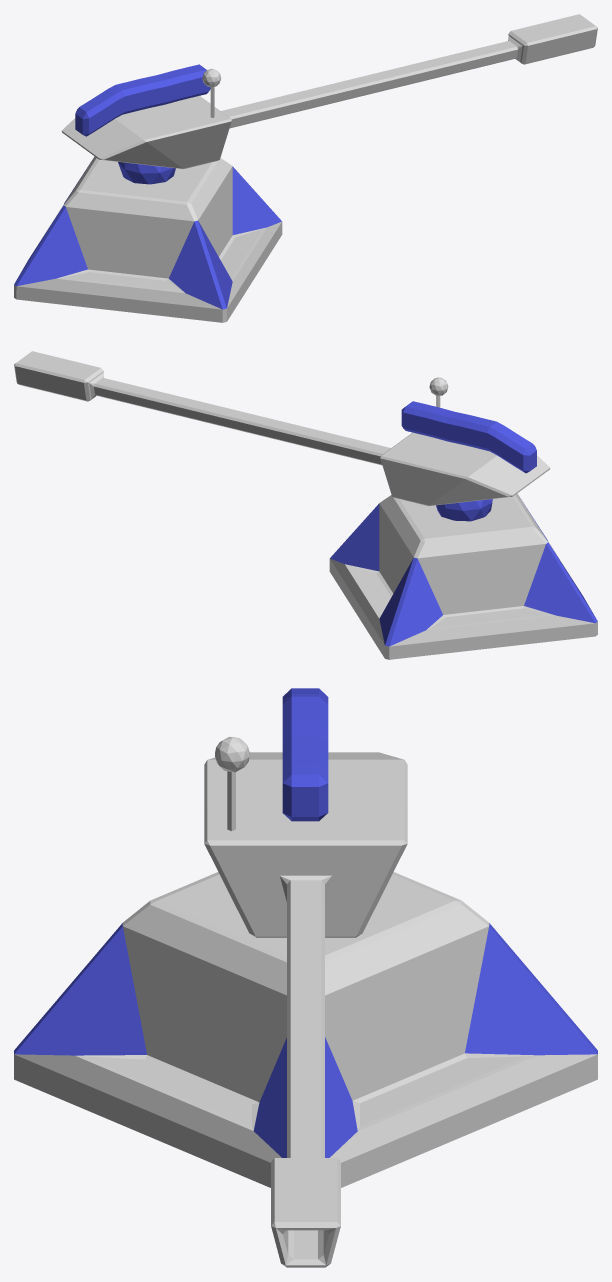
File: Mohawk.fbx
The picture shows the model from 3 angles, top to bottom: view 1: azimuth 30°, elevation 25°; view 2: azimuth 150°, elevation 25°; view 3: azimuth 270°, elevation 25°; orthographic projection. The views are drawn at different scales.
Visible parts, largest first — view 1: base, cañon, pelo, Esfera geodésica; view 2: base, cañon, pelo, Esfera geodésica; view 3: base, cañon, pelo, antena.
Part boxes in pixels (bbox=[...]): base: bbox=[14, 156, 282, 322]; cañon: bbox=[61, 14, 597, 169]; pelo: bbox=[75, 64, 210, 136]; Esfera geodésica: bbox=[118, 162, 175, 184]; base: bbox=[329, 493, 597, 659]; cañon: bbox=[14, 351, 550, 506]; pelo: bbox=[401, 401, 536, 473]; Esfera geodésica: bbox=[436, 499, 492, 521]; base: bbox=[14, 872, 597, 1187]; cañon: bbox=[204, 752, 407, 1267]; pelo: bbox=[282, 688, 328, 821]; antena: bbox=[215, 736, 249, 772].
Size of the model in its own units: 2.63 by 1.9 by 5.68.
